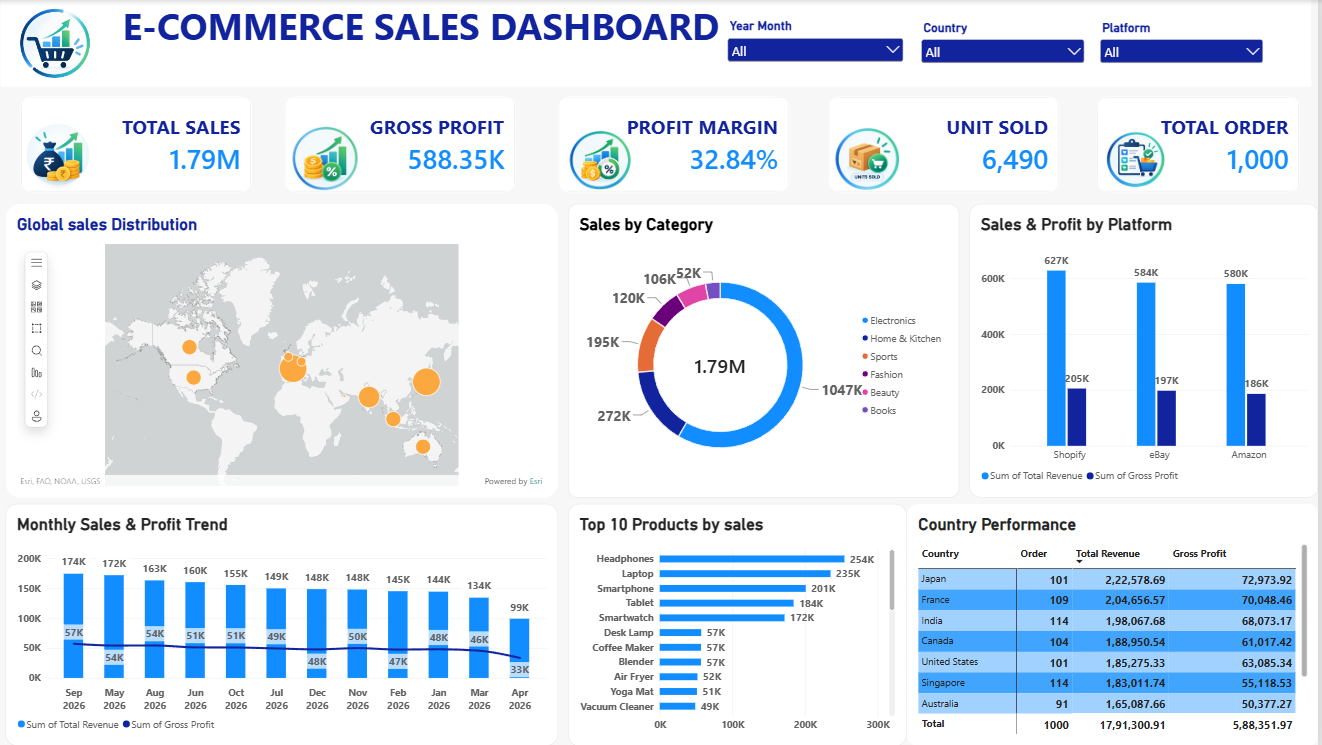

What the dashboard file says about the page in this screenshot:
{"tool":"powerbi","page":{"name":"Page 1","canvas":[1920,1080],"ordinal":0},"visuals":[{"type":"textbox","box":[10,0,1269,79],"z":0},{"type":"textbox","box":[10.3,0,1897.8,125.6],"z":1000},{"type":"image","box":[10.3,4.1,158.5,121.4],"z":2000},{"type":"cardVisual","fields":{"Data":["Ecom_Sales_Data.Total sales"]},"box":[39.1,140,335,139],"z":3000},{"type":"cardVisual","fields":{"Data":["Ecom_Sales_Data.Gross Profit KPI"]},"box":[422,140,335,139],"z":4000},{"type":"cardVisual","fields":{"Data":["Ecom_Sales_Data.Profit Margin %"]},"box":[817.2,140,335,139],"z":5000},{"type":"cardVisual","fields":{"Data":["Ecom_Sales_Data.Unit Sold Display"]},"box":[1208.2,140,335,139],"z":6000},{"type":"cardVisual","fields":{"Data":["Ecom_Sales_Data.Total Order Display"]},"box":[1597.9,139.3,294,139],"z":7000},{"type":"image","box":[10.3,156.4,166.7,140],"z":8000},{"type":"image","box":[422,181.1,119.4,98.8],"z":9000},{"type":"image","box":[817.2,185.2,123.5,94.7],"z":10000},{"type":"image","box":[1208.2,177,113.2,105],"z":11000},{"type":"image","box":[1597.9,188.2,114,85.1],"z":12000},{"type":"esriVisual","title":"Global sales Distribution","fields":{"Location":["Ecom_Sales_Data.Customer_Country"],"Size":["Sum(Ecom_Sales_Data.Total Revenue)"]},"box":[18.1,295,799.9,425.3],"z":13000},{"type":"donutChart","title":"Sales by Category","fields":{"Category":["Ecom_Sales_Data.Product_Category"],"Y":["Sum(Ecom_Sales_Data.Total Revenue)"]},"box":[832.4,295,566.4,425.3],"z":14000},{"type":"clusteredColumnChart","title":"Sales & Profit by Platform ","fields":{"Category":["Ecom_Sales_Data.Platform"],"Y":["Sum(Ecom_Sales_Data.Total Revenue)","Sum(Ecom_Sales_Data.Gross Profit)"]},"box":[1413.3,295,506.7,425.3],"z":15000},{"type":"lineStackedColumnComboChart","title":"Monthly Sales & Profit Trend","fields":{"Category":["Calendar.Year Month"],"Y":["Sum(Ecom_Sales_Data.Total Revenue)"],"Y2":["Sum(Ecom_Sales_Data.Gross Profit)"]},"box":[18,730,800,350],"z":16000},{"type":"barChart","title":"Top 10 Products by sales","fields":{"Category":["Ecom_Sales_Data.Product_Name"],"Y":["Sum(Ecom_Sales_Data.Total Revenue)"]},"box":[832.4,729.3,490.4,351.1],"z":17000},{"type":"pivotTable","title":"Country Performance","fields":{"Rows":["Ecom_Sales_Data.Customer_Country"],"Values":["Ecom_Sales_Data.Total Order","Sum(Ecom_Sales_Data.Total Revenue)","Sum(Ecom_Sales_Data.Gross Profit)"]},"box":[1322.9,729.3,597.2,351.1],"z":18000},{"type":"slicer","fields":{"Values":["Calendar.Year Month"]},"box":[1058.7,27.1,264.2,70.6],"z":18001},{"type":"slicer","fields":{"Values":["Ecom_Sales_Data.Customer_Country"]},"box":[1339.1,29,246.1,70.6],"z":18002},{"type":"slicer","fields":{"Values":["Ecom_Sales_Data.Platform"]},"box":[1597.9,29,246.1,70.6],"z":18003}]}

Visuals, with their boxes in screenshot pixels (x1, y1, x2, y2), scaled from the page's 1920x1080 canvas onto the 1322x745 screenshot:
textbox: crop(7, 0, 881, 54)
textbox: crop(7, 0, 1314, 87)
image: crop(7, 3, 116, 87)
cardVisual - Ecom_Sales_Data.Total sales: crop(27, 97, 258, 192)
cardVisual - Ecom_Sales_Data.Gross Profit KPI: crop(291, 97, 521, 192)
cardVisual - Ecom_Sales_Data.Profit Margin %: crop(563, 97, 793, 192)
cardVisual - Ecom_Sales_Data.Unit Sold Display: crop(832, 97, 1063, 192)
cardVisual - Ecom_Sales_Data.Total Order Display: crop(1100, 96, 1303, 192)
image: crop(7, 108, 122, 204)
image: crop(291, 125, 373, 193)
image: crop(563, 128, 648, 193)
image: crop(832, 122, 910, 195)
image: crop(1100, 130, 1179, 189)
"Global sales Distribution" esriVisual: crop(12, 203, 563, 497)
"Sales by Category" donutChart: crop(573, 203, 963, 497)
"Sales & Profit by Platform " clusteredColumnChart: crop(973, 203, 1321, 497)
"Monthly Sales & Profit Trend" lineStackedColumnComboChart: crop(12, 504, 563, 744)
"Top 10 Products by sales" barChart: crop(573, 503, 911, 744)
"Country Performance" pivotTable: crop(911, 503, 1321, 744)
slicer - Calendar.Year Month: crop(729, 19, 911, 67)
slicer - Ecom_Sales_Data.Customer_Country: crop(922, 20, 1091, 69)
slicer - Ecom_Sales_Data.Platform: crop(1100, 20, 1270, 69)
